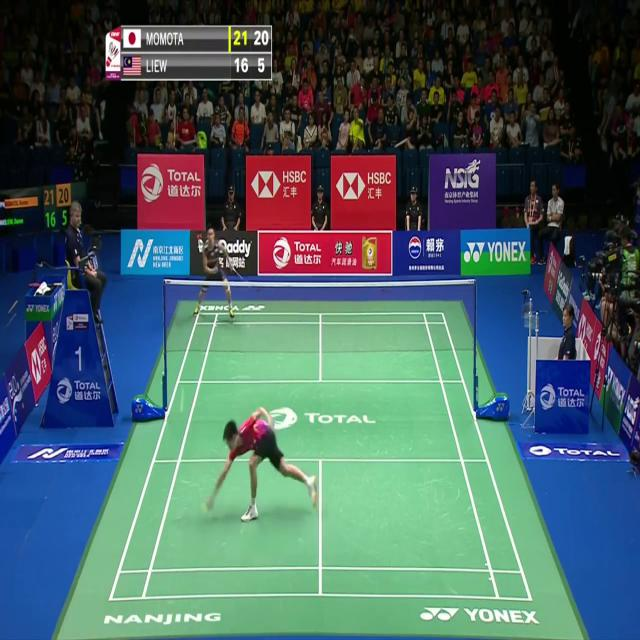Shuttlecock: (178, 396, 185, 408)
